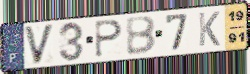3: (57, 20, 85, 63)
7: (164, 12, 191, 52)
B: (124, 15, 157, 57)
K: (197, 10, 222, 48)
P: (94, 19, 124, 59)
V: (22, 23, 56, 66)
